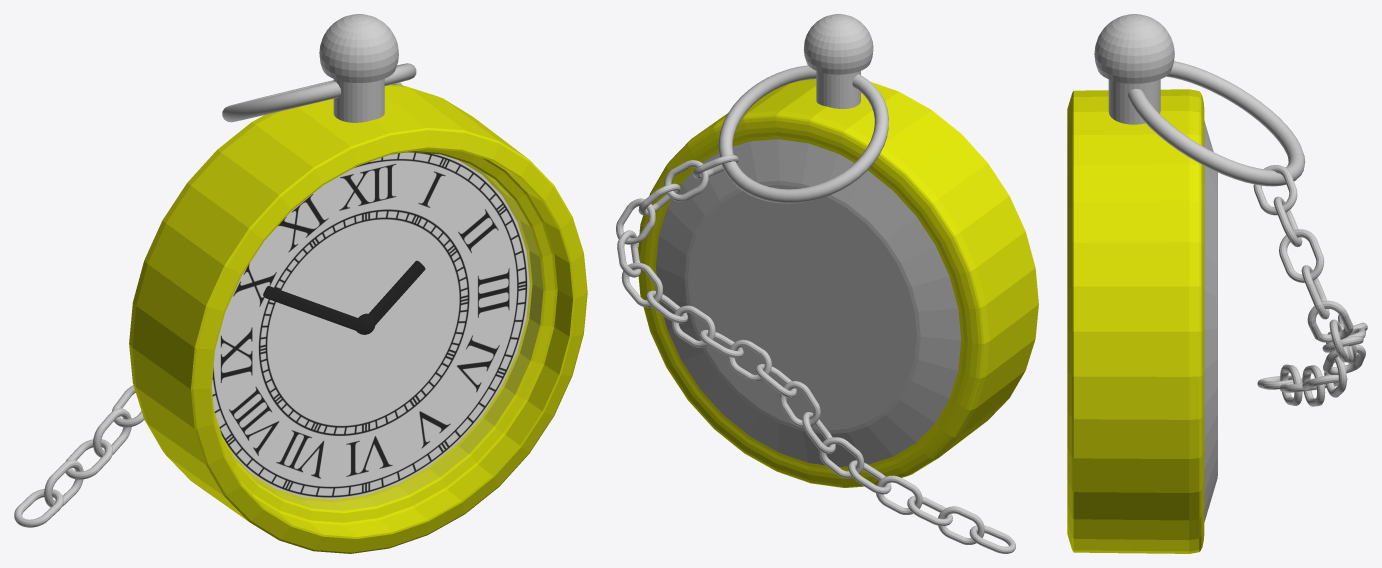
Rendered from Stopwatch.fbx.
3 renders of one model, left to right at view 1: azimuth 30°, elevation 25°; view 2: azimuth 150°, elevation 25°; view 3: azimuth 270°, elevation 25°, orthographic. The views are drawn at different scales.
Parts seen in each view (by area): view 1: StopWatch, GoussetHaut, Chain, Circle, GoussetBas, AiguilleMinute, AiguilleHeure; view 2: StopWatch, Chain, Circle, GoussetHaut, GoussetBas; view 3: StopWatch, Chain, Circle, GoussetHaut, GoussetBas.
Boxes of the visible parts, bbox=[...] form: StopWatch: bbox=[129, 84, 587, 553]; GoussetHaut: bbox=[319, 14, 398, 82]; Chain: bbox=[14, 82, 401, 527]; Circle: bbox=[222, 63, 416, 122]; GoussetBas: bbox=[333, 79, 384, 122]; AiguilleMinute: bbox=[263, 286, 360, 331]; AiguilleHeure: bbox=[368, 260, 425, 324]; StopWatch: bbox=[638, 79, 1038, 487]; Chain: bbox=[616, 155, 1015, 553]; Circle: bbox=[718, 65, 888, 203]; GoussetHaut: bbox=[803, 14, 873, 74]; GoussetBas: bbox=[816, 71, 860, 108]; StopWatch: bbox=[1067, 89, 1217, 553]; Chain: bbox=[1253, 165, 1367, 406]; Circle: bbox=[1127, 61, 1305, 186]; GoussetHaut: bbox=[1094, 14, 1174, 83]; GoussetBas: bbox=[1108, 79, 1160, 124].
Size of the model in its own units: 208 by 215 by 114.
